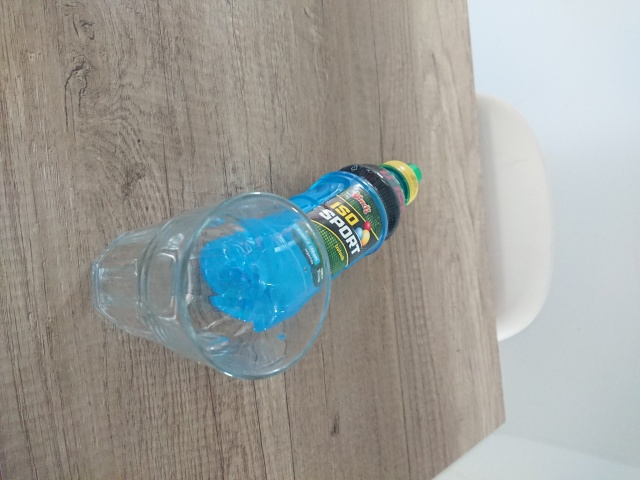Vindi Iso Sport Forest Strawberries 500mL: (199, 157, 423, 329)
